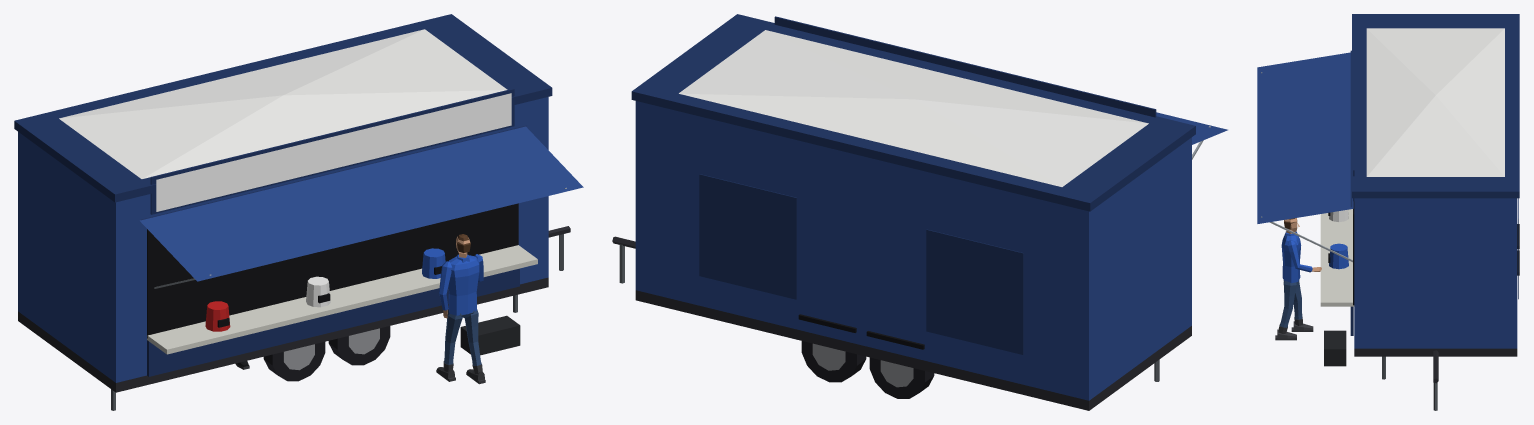
The model's file is merch_trailer.glb.
The picture shows the model from 3 angles, left to right: view 1: azimuth 30°, elevation 25°; view 2: azimuth 150°, elevation 25°; view 3: azimuth 270°, elevation 25°; orthographic projection. The views are drawn at different scales.
Parts seen in each view (by area): view 1: Trailer, Words, People; view 2: Trailer, Words; view 3: Trailer, People, Words.
Boxes of the visible parts, box(x1,y1,x2,y2) form: Trailer: box(14, 14, 583, 410); Words: box(150, 88, 514, 214); People: box(235, 234, 485, 384); Trailer: box(612, 14, 1227, 410); Words: box(774, 16, 1156, 117); Trailer: box(1257, 14, 1519, 410); People: box(1275, 218, 1321, 340); Words: box(1353, 23, 1354, 201).
Bounding box in the file's own units: 6.53 × 3 × 3.53.
